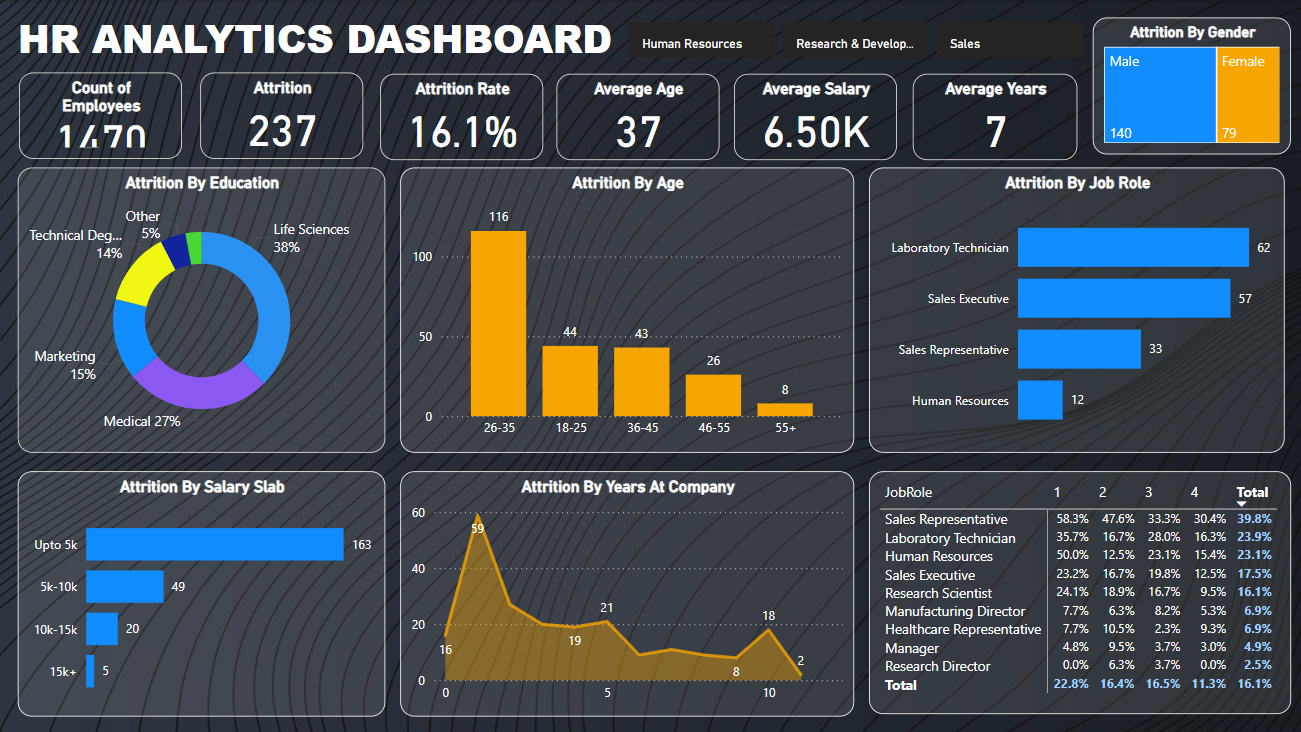

What the dashboard file says about the page in this screenshot:
{"tool":"powerbi","page":{"name":"Page 1","canvas":[1280,720],"ordinal":0},"visuals":[{"type":"card","title":"Count of Employees","fields":{"Values":["Count(HR_Analytics.EmpID)"]},"box":[20.2,70.7,160.1,85.1],"z":0},{"type":"card","title":"Attrition","fields":{"Values":["Sum(HR_Analytics.Attrition_Count)"]},"box":[197.7,70.7,160.1,85.1],"z":1000},{"type":"card","title":"Attrition Rate","fields":{"Values":["HR_Analytics.Attrition_Rate"]},"box":[373.7,72.1,160.1,85.1],"z":2000},{"type":"card","title":"Average Age","fields":{"Values":["Avg(HR_Analytics.Age)"]},"box":[546.8,72.1,160.1,85.1],"z":3000},{"type":"card","title":"Average Salary","fields":{"Values":["Avg(HR_Analytics.MonthlyIncome)"]},"box":[721.4,72.1,160.1,85.1],"z":4000},{"type":"card","title":"Average Years","fields":{"Values":["Avg(HR_Analytics.YearsAtCompany)"]},"box":[897.4,72.1,161.6,85],"z":5000},{"type":"donutChart","title":"Attrition By Education","fields":{"Category":["HR_Analytics.EducationField"],"Y":["Sum(HR_Analytics.Attrition_Count)"]},"box":[18.8,164.5,360.7,279.9],"z":6000},{"type":"columnChart","title":"Attrition By Age","fields":{"Category":["HR_Analytics.AgeGroup"],"Y":["Sum(HR_Analytics.Attrition_Count)"]},"box":[393.9,164.5,445.8,279.9],"z":7000},{"type":"pivotTable","fields":{"Rows":["HR_Analytics.JobRole"],"Columns":["HR_Analytics.JobSatisfaction"],"Values":["HR_Analytics.Attrition_Rate"]},"box":[854.1,463.1,414.1,238.1],"z":8000},{"type":"barChart","title":"Attrition By Salary Slab","fields":{"Category":["HR_Analytics.SalarySlab"],"Y":["Sum(HR_Analytics.Attrition_Count)"]},"box":[18.8,463.1,360.7,240.9],"z":9000},{"type":"barChart","title":"Attrition By Job Role","fields":{"Y":["Sum(HR_Analytics.Attrition_Count)"],"Category":["HR_Analytics.JobRole"]},"box":[854.1,164.5,408.3,279.9],"z":10000},{"type":"areaChart","title":"Attrition By Years At Company","fields":{"Category":["HR_Analytics.YearsAtCompany"],"Y":["Sum(HR_Analytics.Attrition_Count)"]},"box":[393.9,463.1,445.8,240.9],"z":11000},{"type":"treemap","title":"Attrition By Gender","fields":{"Group":["HR_Analytics.Gender"],"Values":["Sum(HR_Analytics.Attrition_Count)"]},"box":[1073.4,17.3,194.8,134.2],"z":12000},{"type":"advancedSlicerVisual","fields":{"Values":["HR_Analytics.Department"]},"box":[613.2,17.3,455.9,44.7],"z":13000},{"type":"textbox","box":[0,5.8,620.4,72.1],"z":14000}]}

Visuals, with their boxes in screenshot pixels (x1, y1, x2, y2), scaled from the page's 1280x720 canvas onto the 1301x732 screenshot:
"Count of Employees" card: <region>21, 72, 183, 158</region>
"Attrition" card: <region>201, 72, 364, 158</region>
"Attrition Rate" card: <region>380, 73, 543, 160</region>
"Average Age" card: <region>556, 73, 718, 160</region>
"Average Salary" card: <region>733, 73, 896, 160</region>
"Average Years" card: <region>912, 73, 1076, 160</region>
"Attrition By Education" donutChart: <region>19, 167, 386, 452</region>
"Attrition By Age" columnChart: <region>400, 167, 853, 452</region>
pivotTable - HR_Analytics.JobRole x HR_Analytics.JobSatisfaction: <region>868, 471, 1289, 713</region>
"Attrition By Salary Slab" barChart: <region>19, 471, 386, 716</region>
"Attrition By Job Role" barChart: <region>868, 167, 1283, 452</region>
"Attrition By Years At Company" areaChart: <region>400, 471, 853, 716</region>
"Attrition By Gender" treemap: <region>1091, 18, 1289, 154</region>
advancedSlicerVisual - HR_Analytics.Department: <region>623, 18, 1087, 63</region>
textbox: <region>0, 6, 631, 79</region>
